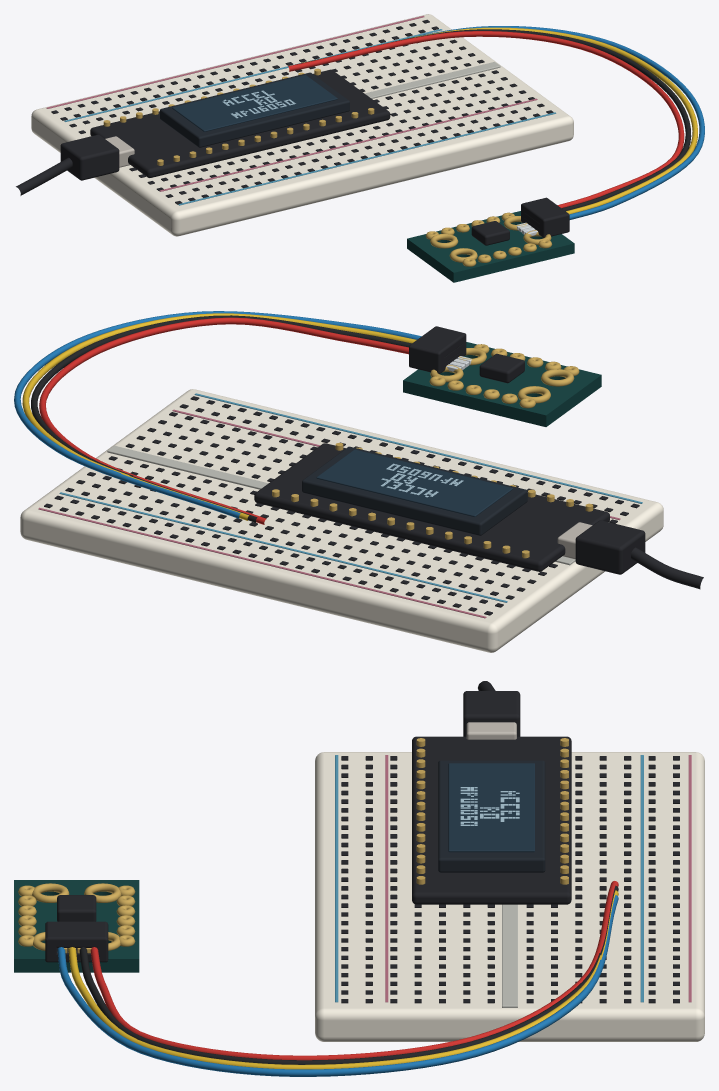
The model's file is sensors-15.glb.
3 views of the same model, one above another, from view 1: azimuth 30°, elevation 25°; view 2: azimuth 150°, elevation 25°; view 3: azimuth 270°, elevation 25° (orthographic). The views are drawn at different scales.
Parts seen in each view (by area): view 1: breadboard, harness, host, screen, module, host-usb, sensor; view 2: breadboard, host, harness, screen, module, host-usb, sensor; view 3: breadboard, host, harness, screen, module, host-usb, sensor.
Part boxes in pixels (bbox=[...]): breadboard: bbox=[31, 14, 573, 236]; harness: bbox=[288, 26, 704, 219]; host: bbox=[90, 68, 390, 177]; screen: bbox=[160, 72, 349, 147]; module: bbox=[407, 197, 574, 282]; host-usb: bbox=[16, 134, 134, 195]; sensor: bbox=[471, 221, 509, 245]; breadboard: bbox=[20, 389, 663, 652]; host: bbox=[254, 442, 609, 571]; harness: bbox=[14, 311, 421, 524]; screen: bbox=[302, 446, 527, 535]; module: bbox=[403, 326, 601, 426]; host-usb: bbox=[557, 520, 703, 589]; sensor: bbox=[479, 353, 524, 383]; breadboard: bbox=[315, 752, 704, 1041]; host: bbox=[412, 736, 571, 904]; harness: bbox=[57, 881, 618, 1076]; screen: bbox=[438, 760, 545, 872]; module: bbox=[14, 880, 139, 972]; host-usb: bbox=[463, 681, 520, 739]; sensor: bbox=[57, 895, 96, 921].
Bounding box in the file's own units: 4.1 × 0.356 × 3.03.
